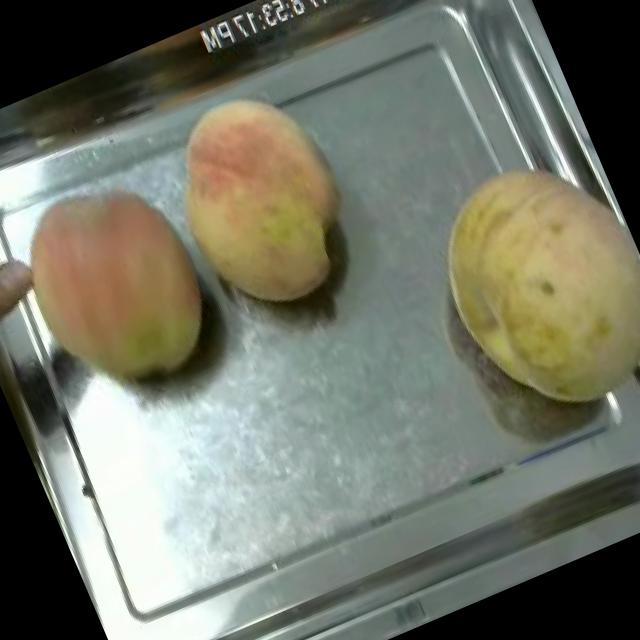Fruit: (397, 125, 640, 452), (133, 61, 384, 340), (0, 146, 245, 426), (0, 204, 44, 346)
